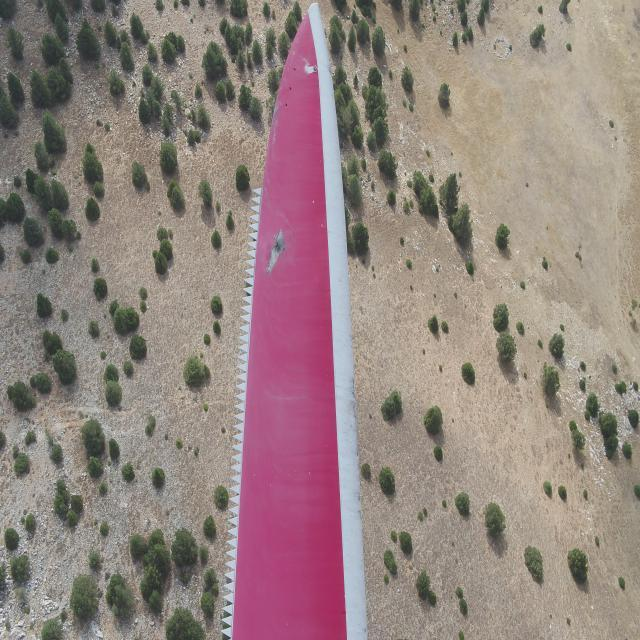Coating_defects: (265, 231, 287, 275), (304, 62, 321, 80)
